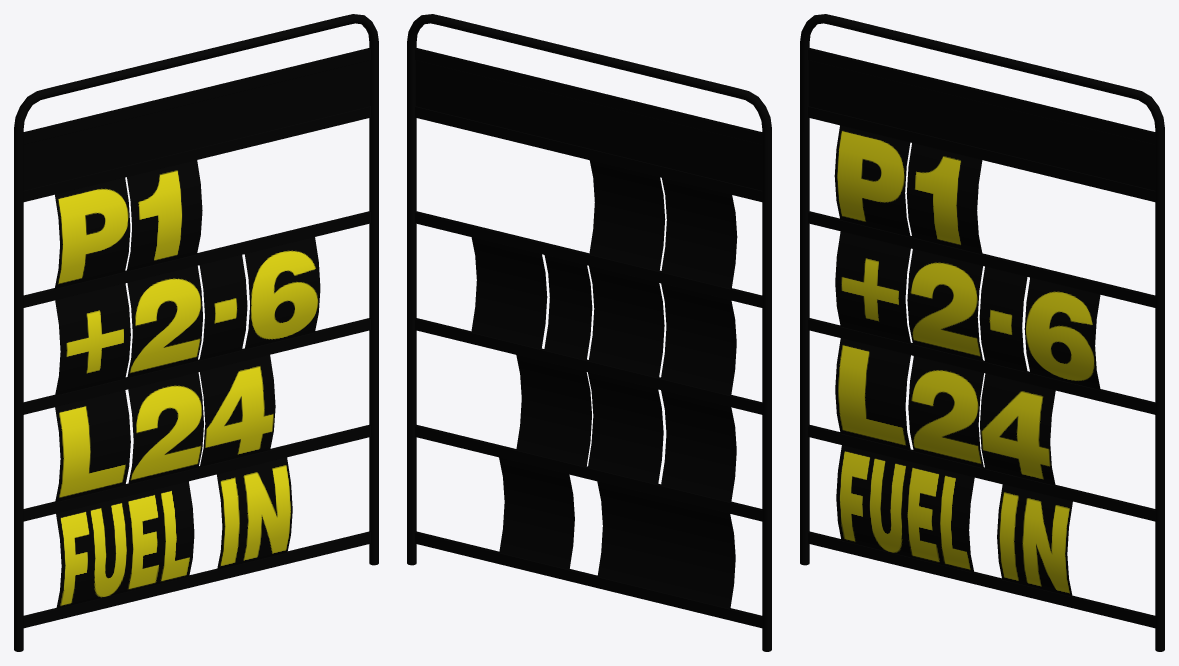
The model's file is pit_board.glb.
3 renders of one model, left to right at view 1: azimuth 30°, elevation 25°; view 2: azimuth 150°, elevation 25°; view 3: azimuth 330°, elevation 25°, orthographic.
Visible parts, largest first — view 1: Pit_Board_Metal_Sheet_Paint Metal_0, 2_2_0, FUEL_FUEL_0, IN_IN_0, 3_6_0, __2_+_0, 4_4_0, L_L_0, 1_1_0, P_P_0, __-_0; view 2: Pit_Board_Metal_Sheet_Paint Metal_0, 2_2_0, FUEL_FUEL_0, 4_4_0, 3_6_0, __2_+_0, L_L_0, IN_IN_0, 1_1_0, P_P_0, __-_0; view 3: Pit_Board_Metal_Sheet_Paint Metal_0, 2_2_0, FUEL_FUEL_0, IN_IN_0, 3_6_0, __2_+_0, L_L_0, 4_4_0, 1_1_0, P_P_0, __-_0.
Boxes of the visible parts, x1,y1,x2,y2 form: Pit_Board_Metal_Sheet_Paint Metal_0: (14,14,378,651); 2_2_0: (127,265,203,484); FUEL_FUEL_0: (56,481,194,608); IN_IN_0: (217,457,292,569); 3_6_0: (244,237,320,349); __2_+_0: (55,283,130,395); 4_4_0: (200,355,275,466); L_L_0: (55,390,130,502); 1_1_0: (126,160,202,271); P_P_0: (54,177,130,288); __-_0: (199,255,247,360); Pit_Board_Metal_Sheet_Paint Metal_0: (407,14,771,651); 2_2_0: (588,266,664,484); FUEL_FUEL_0: (597,481,735,608); 4_4_0: (516,355,591,467); 3_6_0: (471,237,547,349); __2_+_0: (661,283,736,395); L_L_0: (661,390,736,502); IN_IN_0: (499,457,574,569); 1_1_0: (589,160,665,271); P_P_0: (661,178,737,288); __-_0: (544,255,592,360); Pit_Board_Metal_Sheet_Paint Metal_0: (800,14,1164,651); 2_2_0: (907,249,983,468); FUEL_FUEL_0: (836,445,974,572); IN_IN_0: (997,484,1072,596); 3_6_0: (1024,277,1100,389); __2_+_0: (835,231,910,343); L_L_0: (835,338,910,450); 4_4_0: (980,373,1055,485); 1_1_0: (906,143,982,254); P_P_0: (834,125,910,236); __-_0: (979,266,1027,372).
Bounding box in the file's own units: 68.54 × 99.82 × 2.66.
11 materials, 10 textured.
